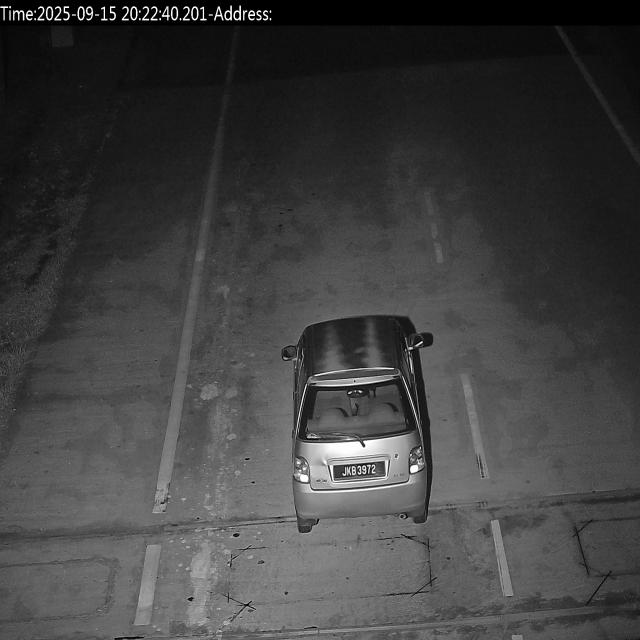back: (337, 462, 386, 479)
